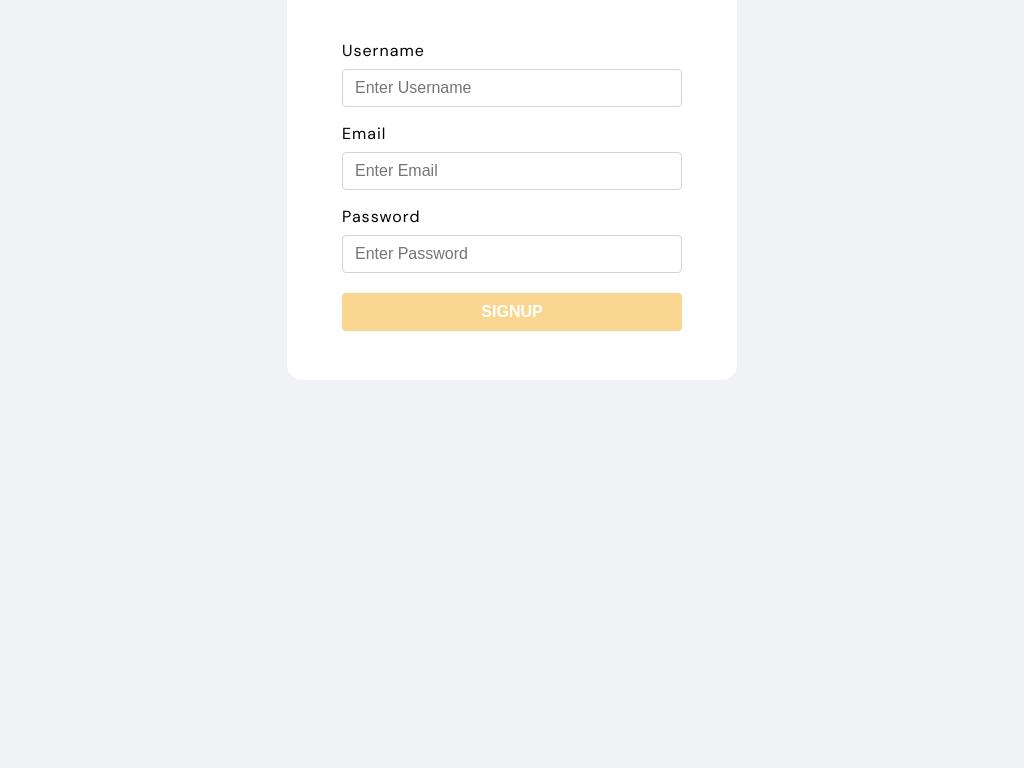
it: Register › Button › should be enabled with input values
Type "ronin" into the field labelled "Username" at (512, 88), box [342,69,682,107]
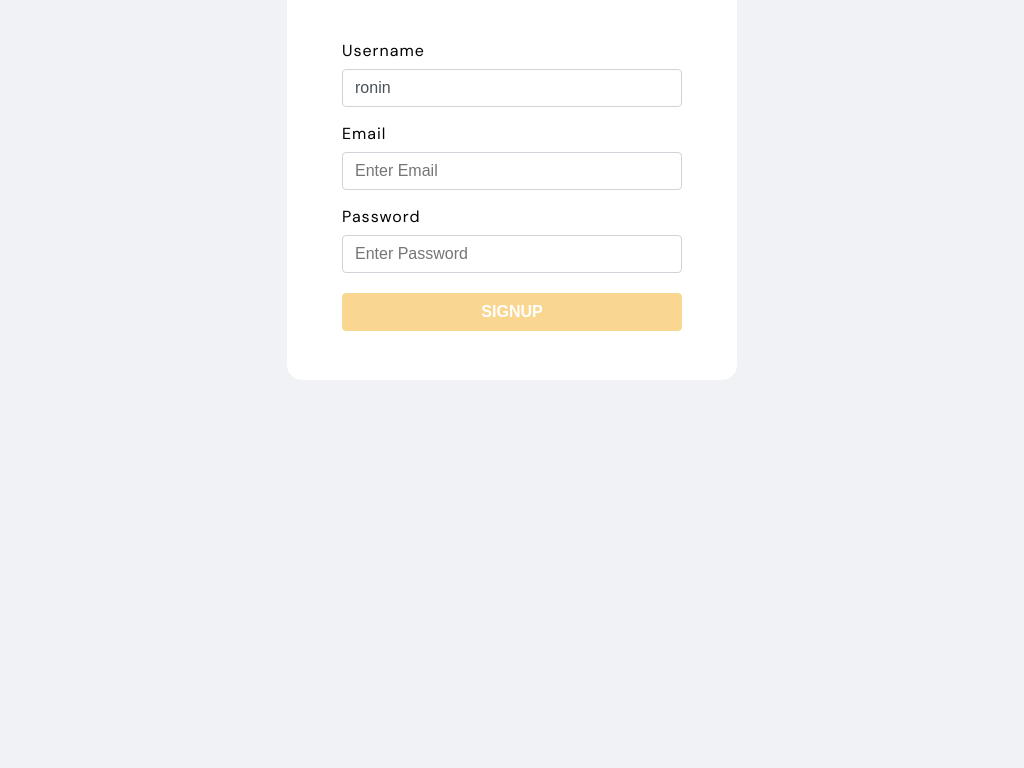
Type "ronin@test.com" into the field labelled "Email" at (512, 171), box [342,152,682,190]
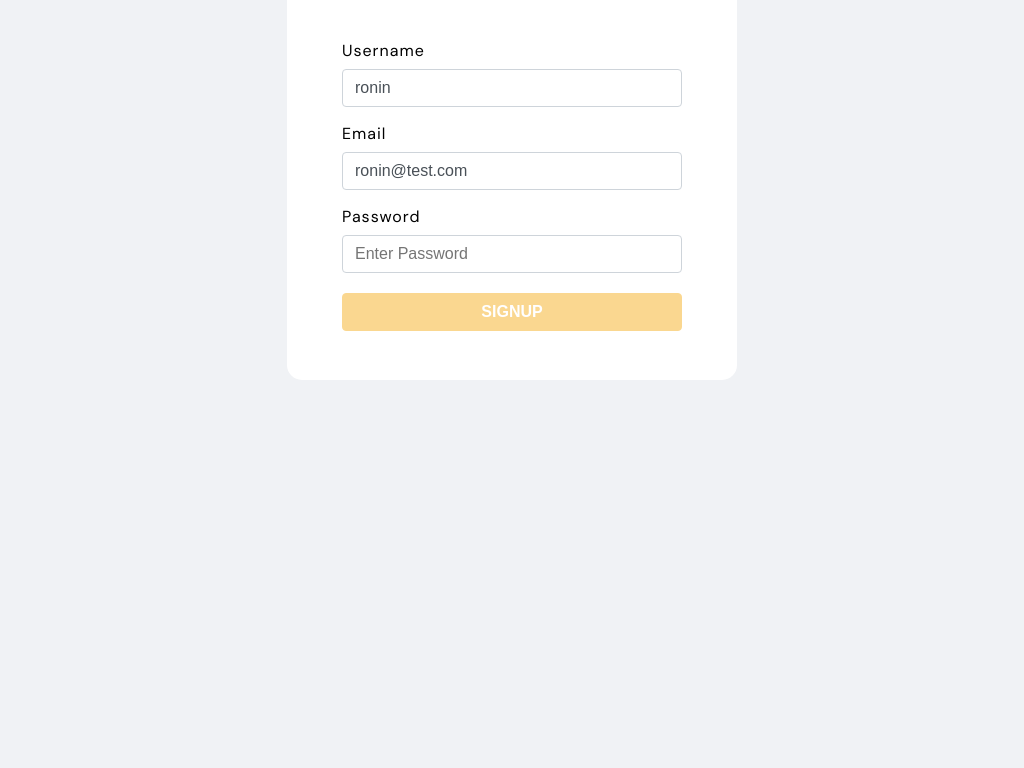
Type "qwerty" into the password field labelled "Password" at (512, 254), box [342,235,682,273]
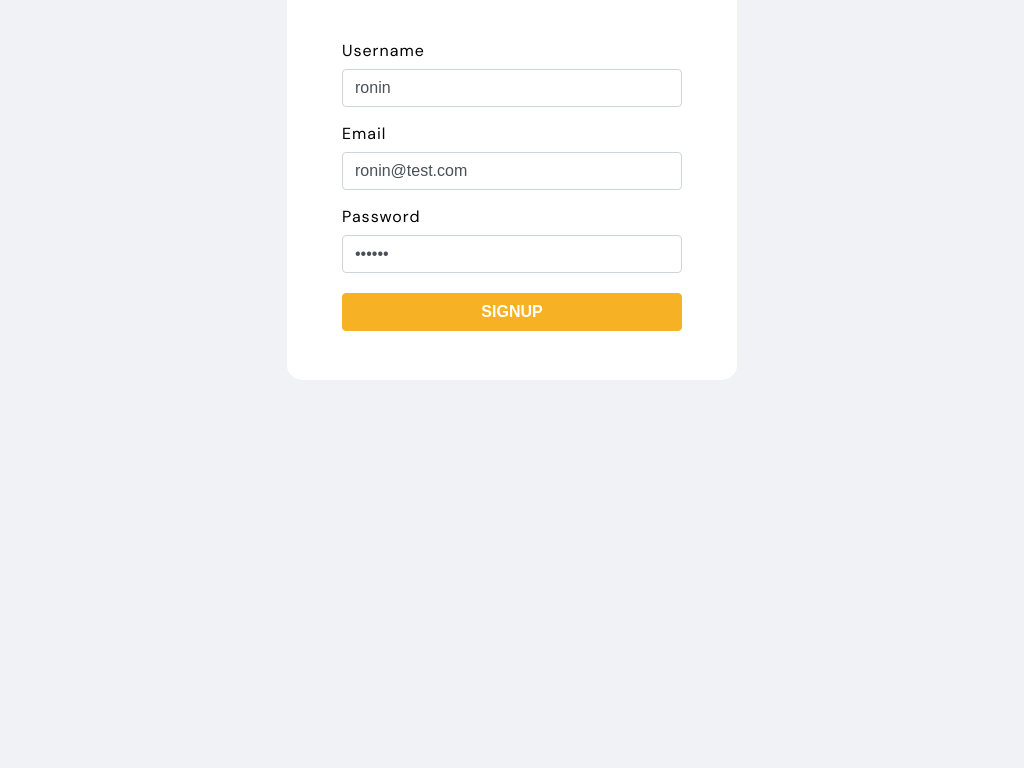
Expected: the button is enabled, [342,293,682,331]
